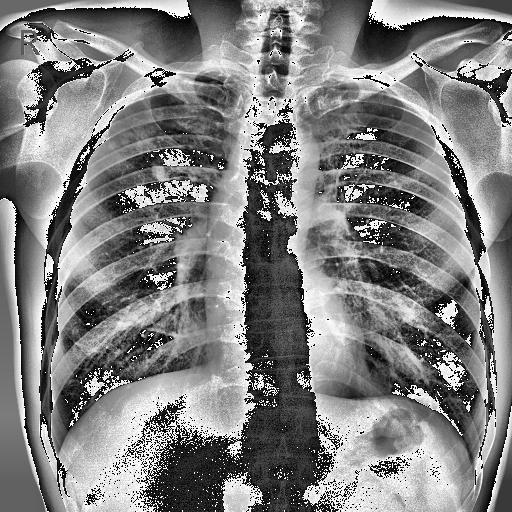0- Aortic enlargement: (264, 126, 321, 184), (260, 126, 320, 178)
11- Pleural thickening: (314, 79, 392, 94), (180, 72, 226, 83)
13- Pulmonary fibrosis: (98, 80, 236, 152), (94, 106, 176, 190), (316, 84, 403, 132), (103, 120, 147, 150)
7- Lung Opacity: (103, 120, 147, 150)
8- Nodule-Mass: (152, 154, 172, 182)
